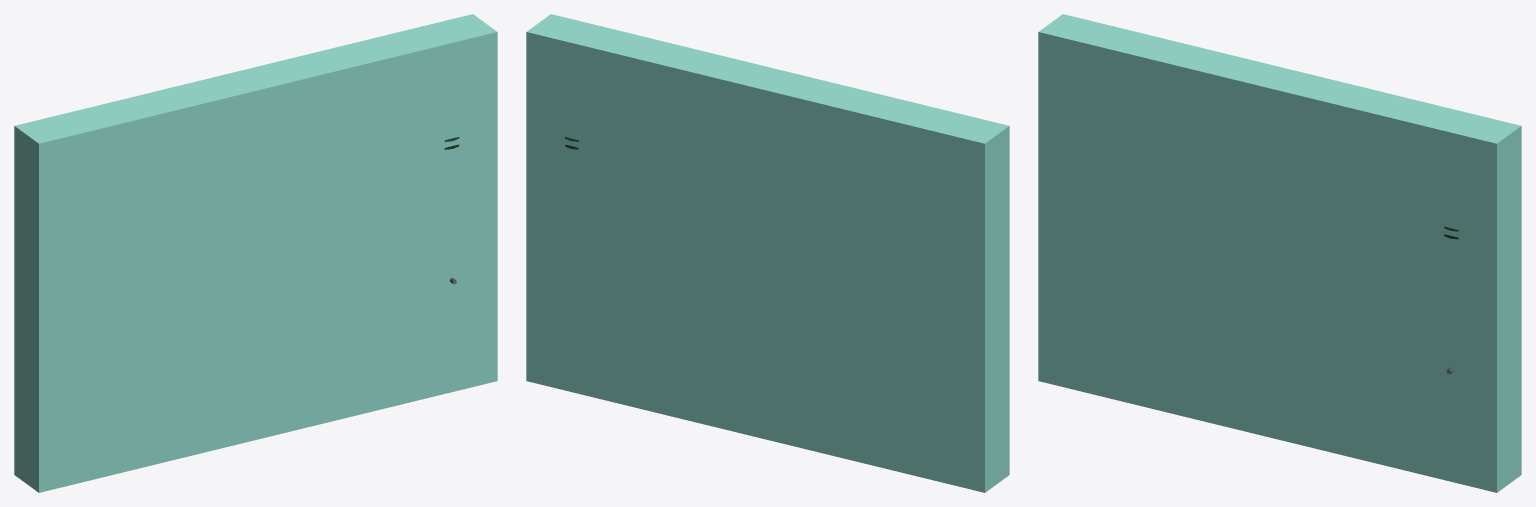
The model's file is dragon_gate.DAE.
3 views of the same model, side by side, from view 1: azimuth 30°, elevation 25°; view 2: azimuth 150°, elevation 25°; view 3: azimuth 330°, elevation 25° (orthographic).
Visible parts, largest first — view 1: bounds; view 2: bounds; view 3: bounds.
Boxes of the visible parts, left/top/right/bottom form: bounds: left=14, top=14, right=497, bottom=492; bounds: left=526, top=14, right=1009, bottom=492; bounds: left=1038, top=14, right=1521, bottom=492.
Bounding box in the file's own units: 284 × 30.29 × 207.
